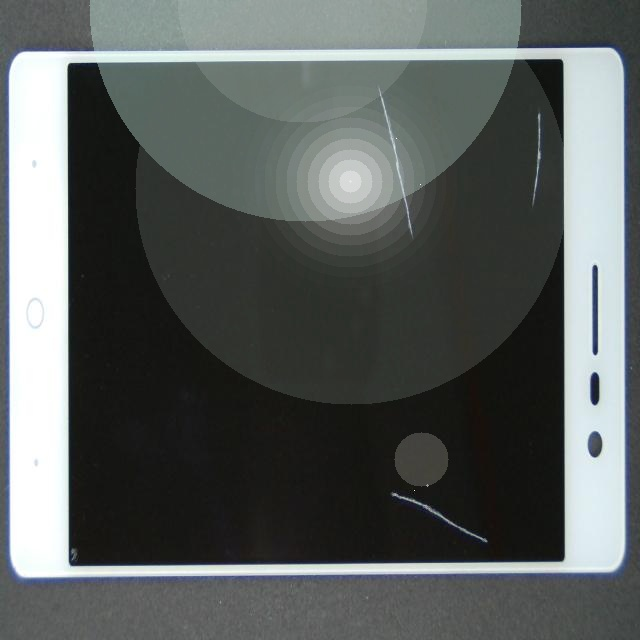scratch: (122, 225, 618, 640), (271, 112, 640, 337), (219, 72, 594, 149)
